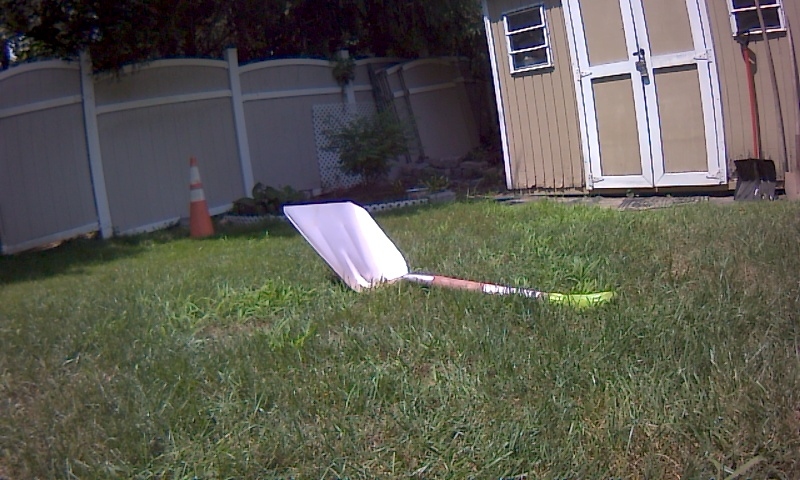shovel: (265, 183, 630, 337)
